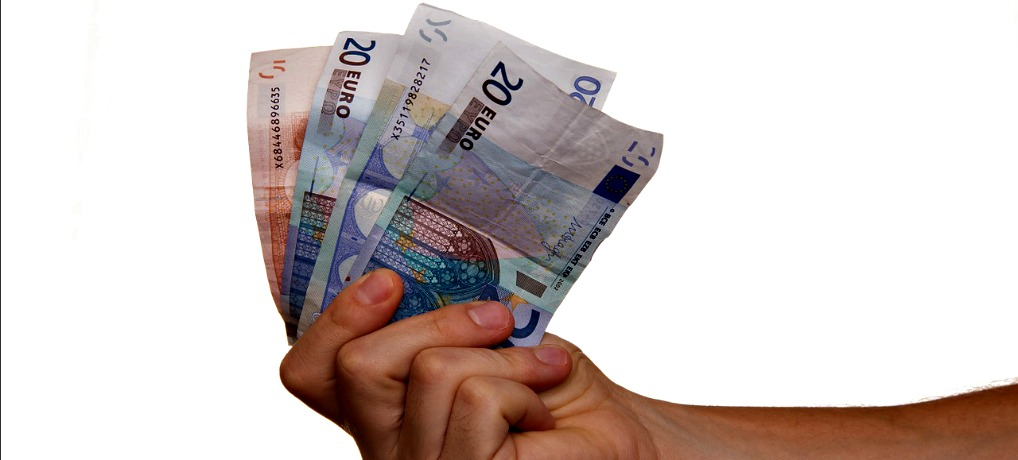billete: (245, 1, 669, 356)
